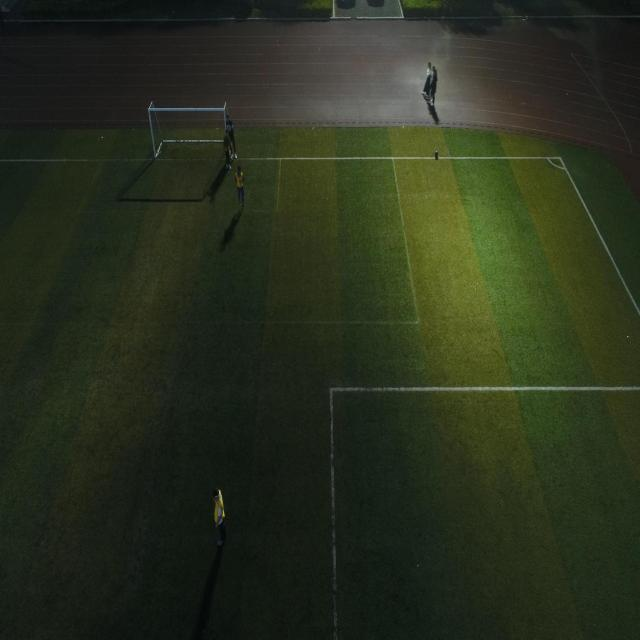person: (212, 488, 226, 548), (225, 113, 237, 160), (235, 164, 244, 208), (223, 130, 232, 170), (429, 65, 437, 106)
